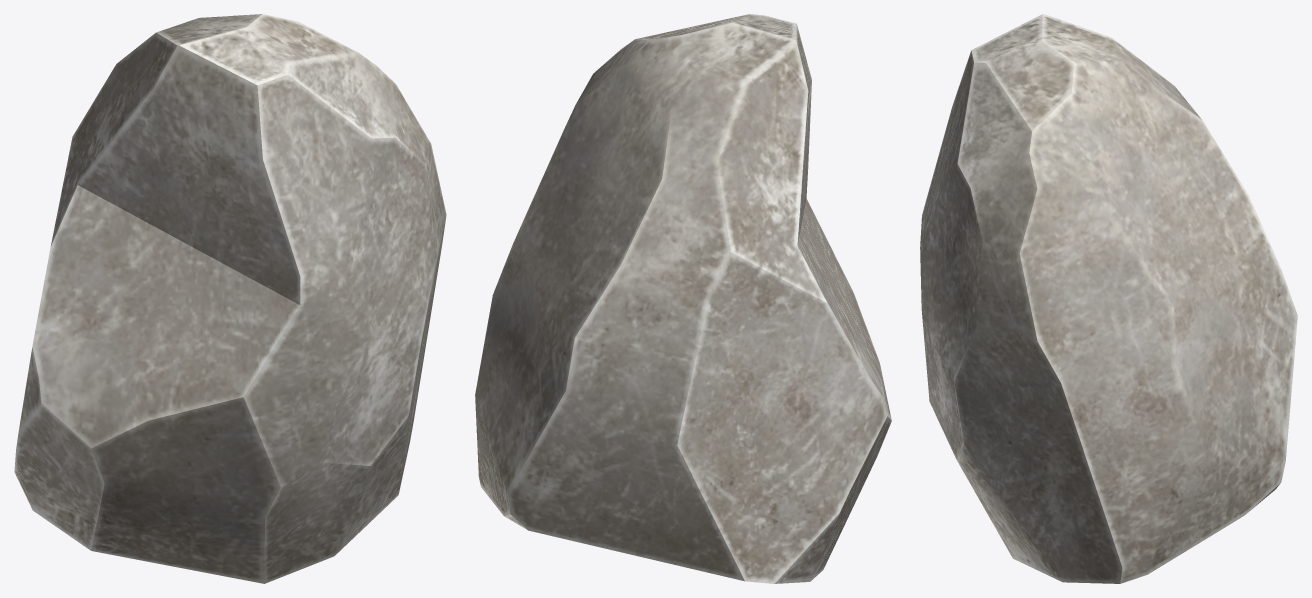
The model's file is round_rock_4_dream.glb.
3 views of the same model, side by side, from view 1: azimuth 30°, elevation 25°; view 2: azimuth 150°, elevation 25°; view 3: azimuth 270°, elevation 25° (orthographic). The views are drawn at different scales.
Parts seen in each view (by area): view 1: round_rock_4; view 2: round_rock_4; view 3: round_rock_4.
Boxes of the visible parts, x1,y1,x2,y2 form: round_rock_4: (14, 14, 446, 583); round_rock_4: (475, 14, 891, 583); round_rock_4: (920, 14, 1297, 583).
Size of the model in its own units: 2.18 by 2.85 by 1.99.
1 material, 1 textured.
